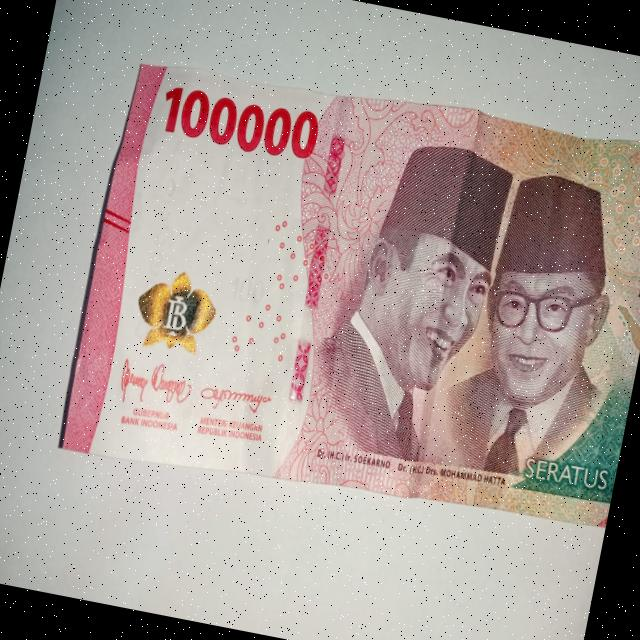100K: (46, 36, 640, 564)
